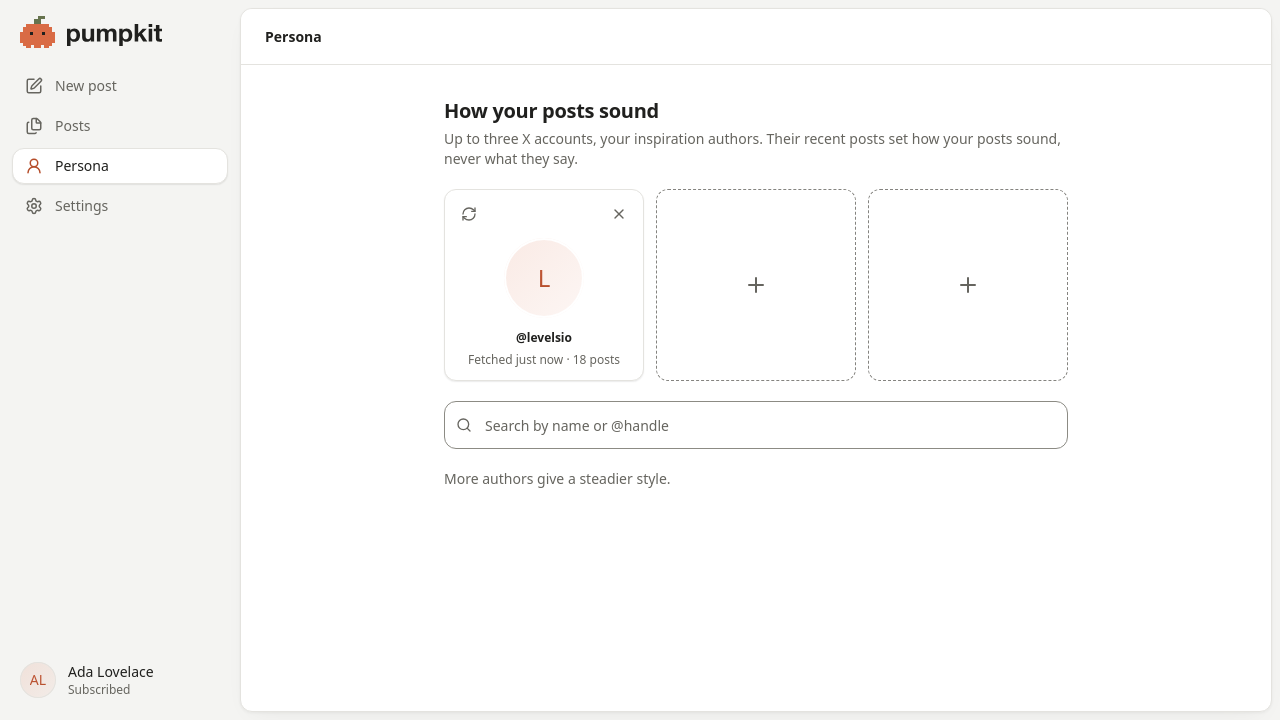
Test: Persona › the slots › says when an author can be refreshed again after a refresh within the day
Click the button named "Refresh @levelsio".
click(469, 214)  # box left=449, top=194, right=489, bottom=234
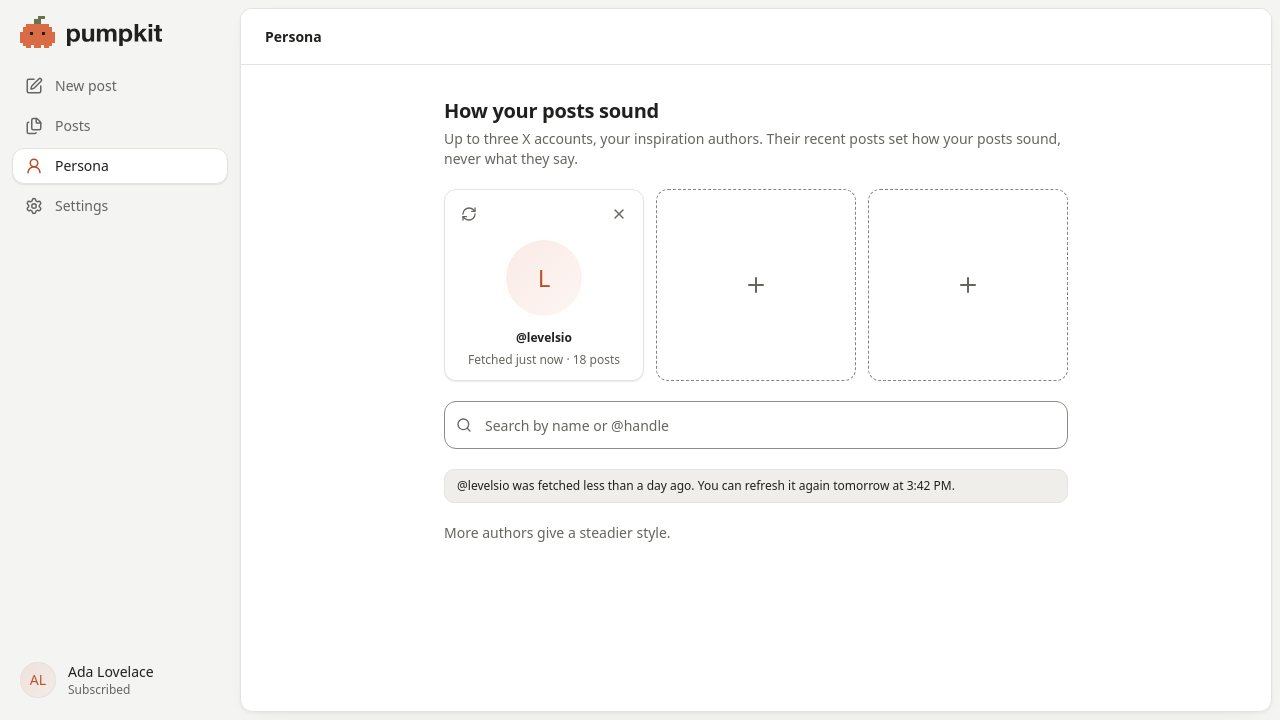
Expected: the text "@levelsio was fetched less than a day ago. You can refresh it again tomorrow at 3:42 PM." is shown, left=457, top=477, right=955, bottom=494
